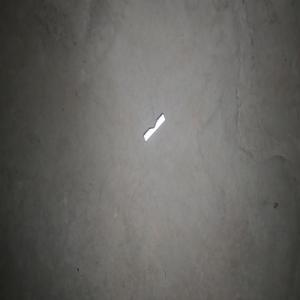ClampPart: (143, 112, 165, 142)
